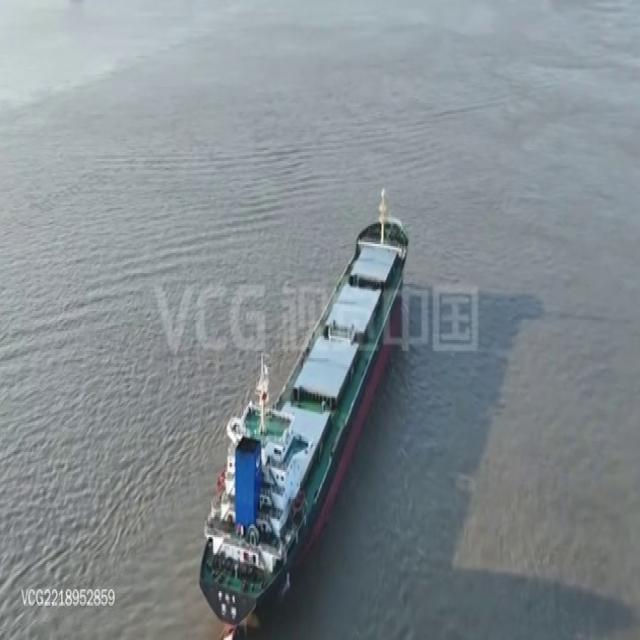cargoship: (198, 186, 406, 640)
